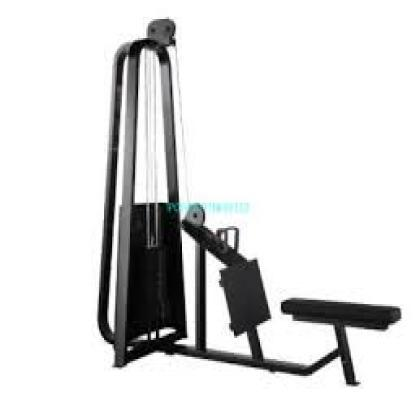Seated Cable Rows: (84, 20, 403, 390)
